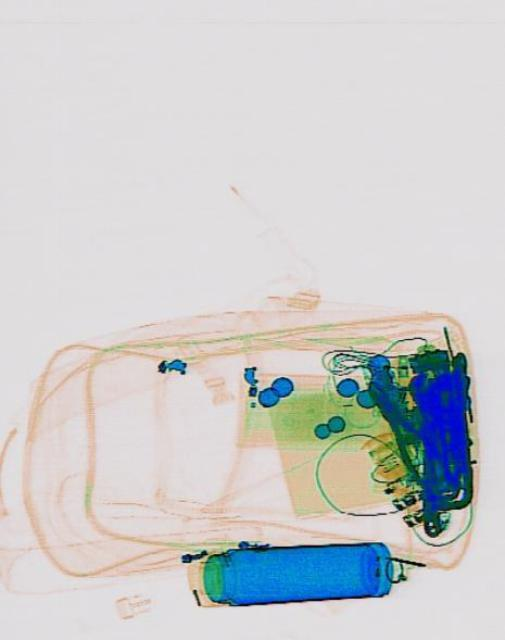Pliers: (352, 368, 450, 494)
Wrench: (404, 370, 447, 538)
